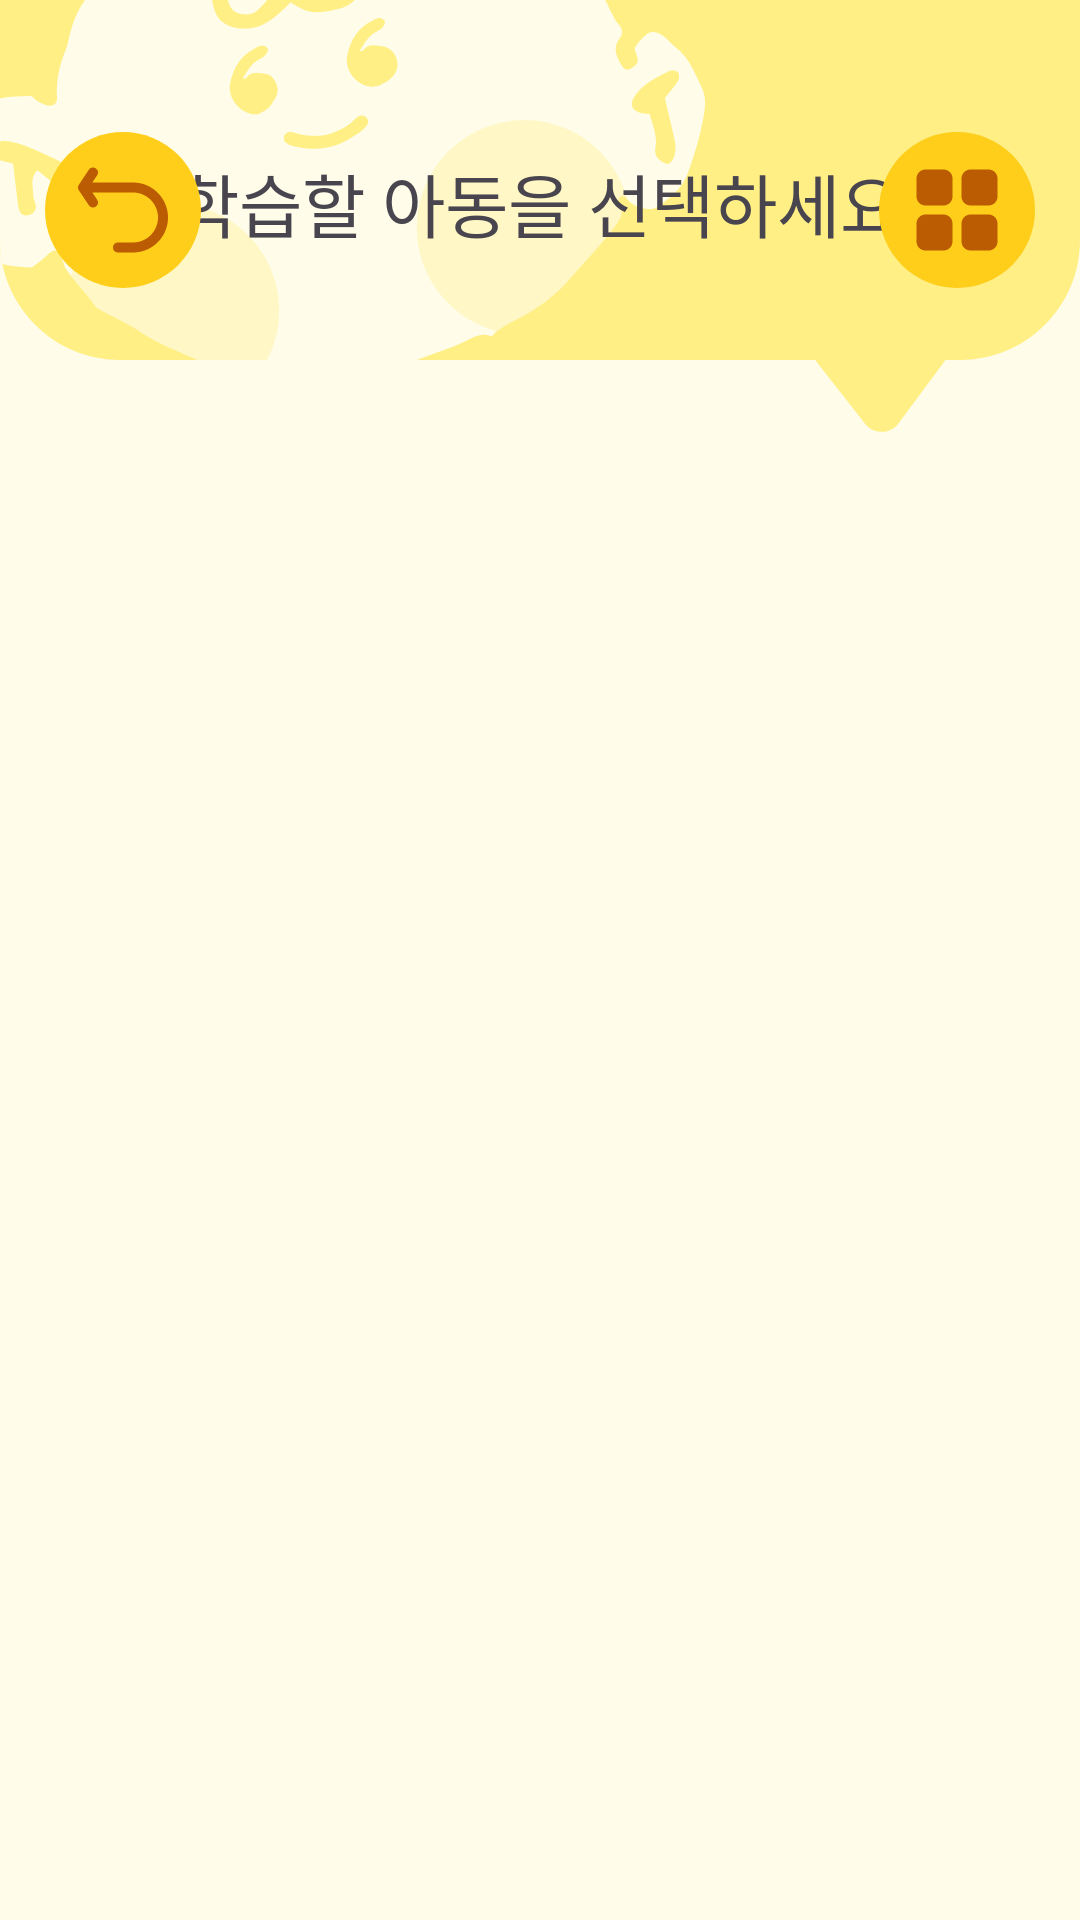

Screen size 1080*1920. Icon name, then its center in pixels as [x,y]:
abtn back: [123,210]
abtn grid: [957,210]
